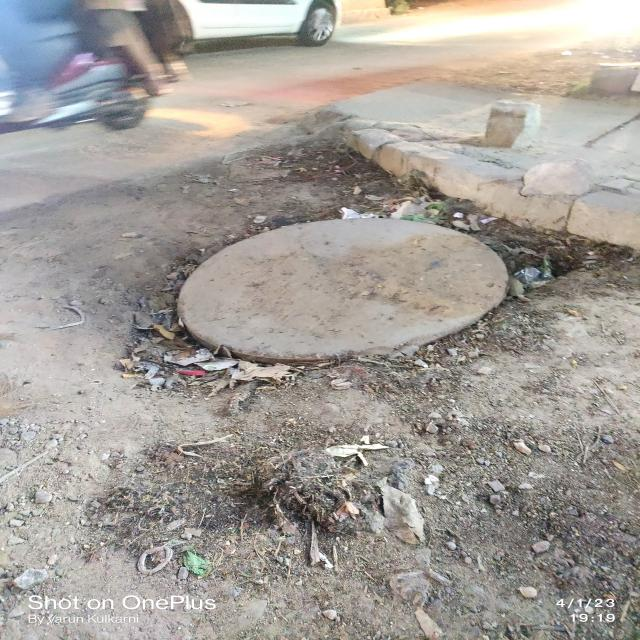manhole: (146, 211, 527, 382)
